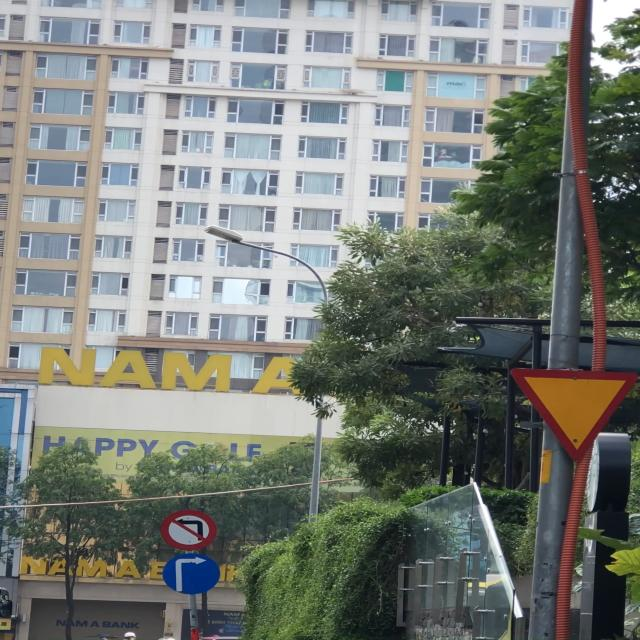Bien bao cam re trai: (160, 506, 222, 554)
Bien bao giao nhau voi duong uu tien: (505, 360, 640, 463)
Bien bao huong di phai theo: (162, 552, 228, 596)
